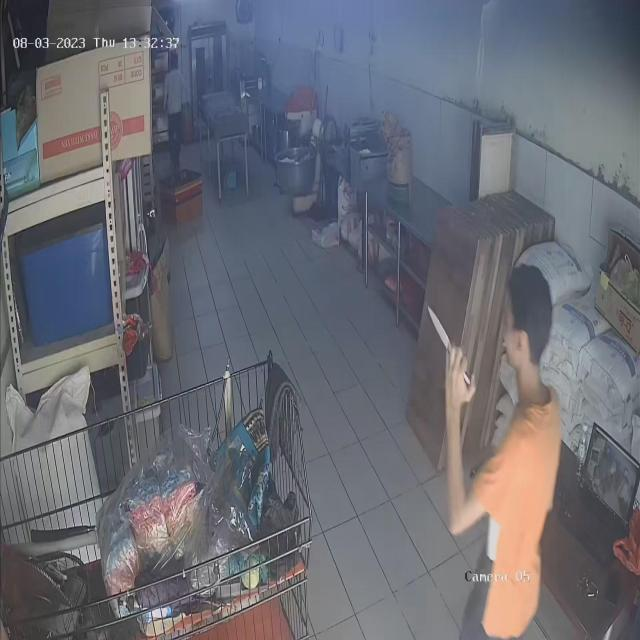Knife: (422, 296, 482, 396)
